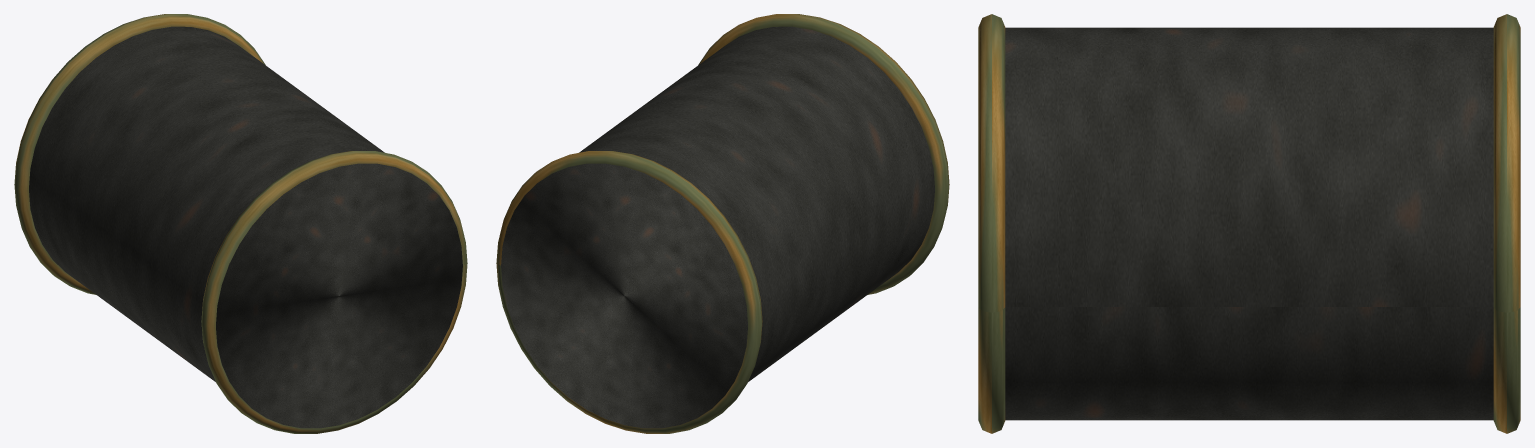
The model's file is canister.obj.
3 renders of one model, left to right at view 1: azimuth 30°, elevation 25°; view 2: azimuth 150°, elevation 25°; view 3: azimuth 270°, elevation 25°, orthographic. The views are drawn at different scales.
Visible parts, largest first — view 1: Canister_tin, Canister_seam_1.9, Canister_seam_-1.9; view 2: Canister_tin, Canister_seam_-1.9, Canister_seam_1.9; view 3: Canister_tin, Canister_seam_-1.9, Canister_seam_1.9.
Boxes of the visible parts, left/top/right/bottom form: Canister_tin: left=29, top=26, right=462, bottom=428; Canister_seam_1.9: left=201, top=151, right=467, bottom=433; Canister_seam_-1.9: left=14, top=14, right=265, bottom=294; Canister_tin: left=501, top=26, right=934, bottom=428; Canister_seam_-1.9: left=496, top=151, right=762, bottom=433; Canister_seam_1.9: left=698, top=14, right=949, bottom=294; Canister_tin: left=1005, top=27, right=1493, bottom=420; Canister_seam_-1.9: left=1493, top=14, right=1520, bottom=433; Canister_seam_1.9: left=978, top=14, right=1005, bottom=433.
Bounding box in the file's own units: 0.1938 × 0.1938 × 0.25.
